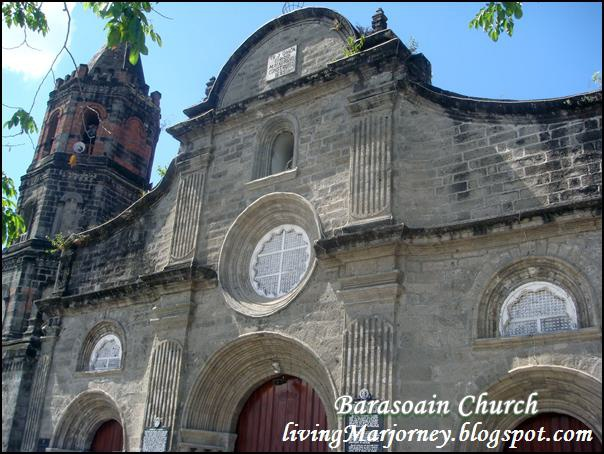barasoain_church_malolos_bulacan: (1, 1, 604, 454)
